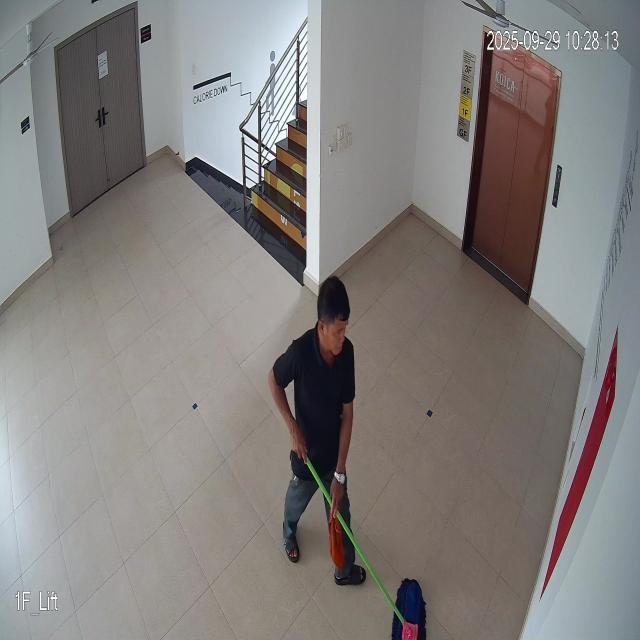face: (312, 268, 351, 366)
